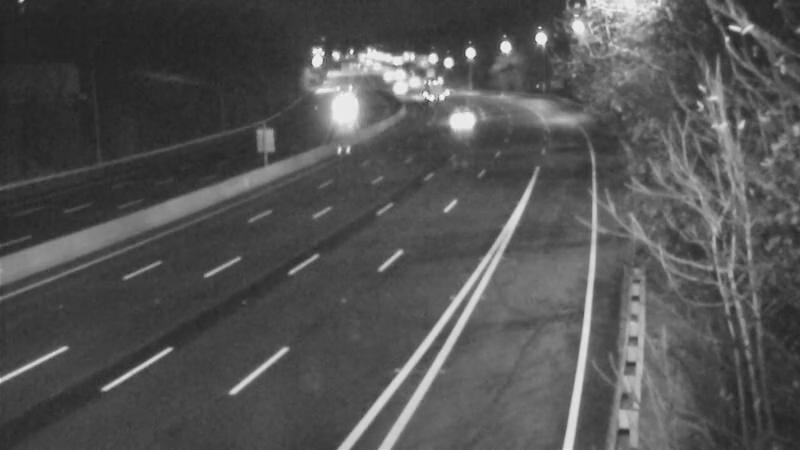vehicle: (373, 63, 423, 113), (405, 64, 455, 114), (432, 99, 482, 149), (312, 85, 362, 135)
